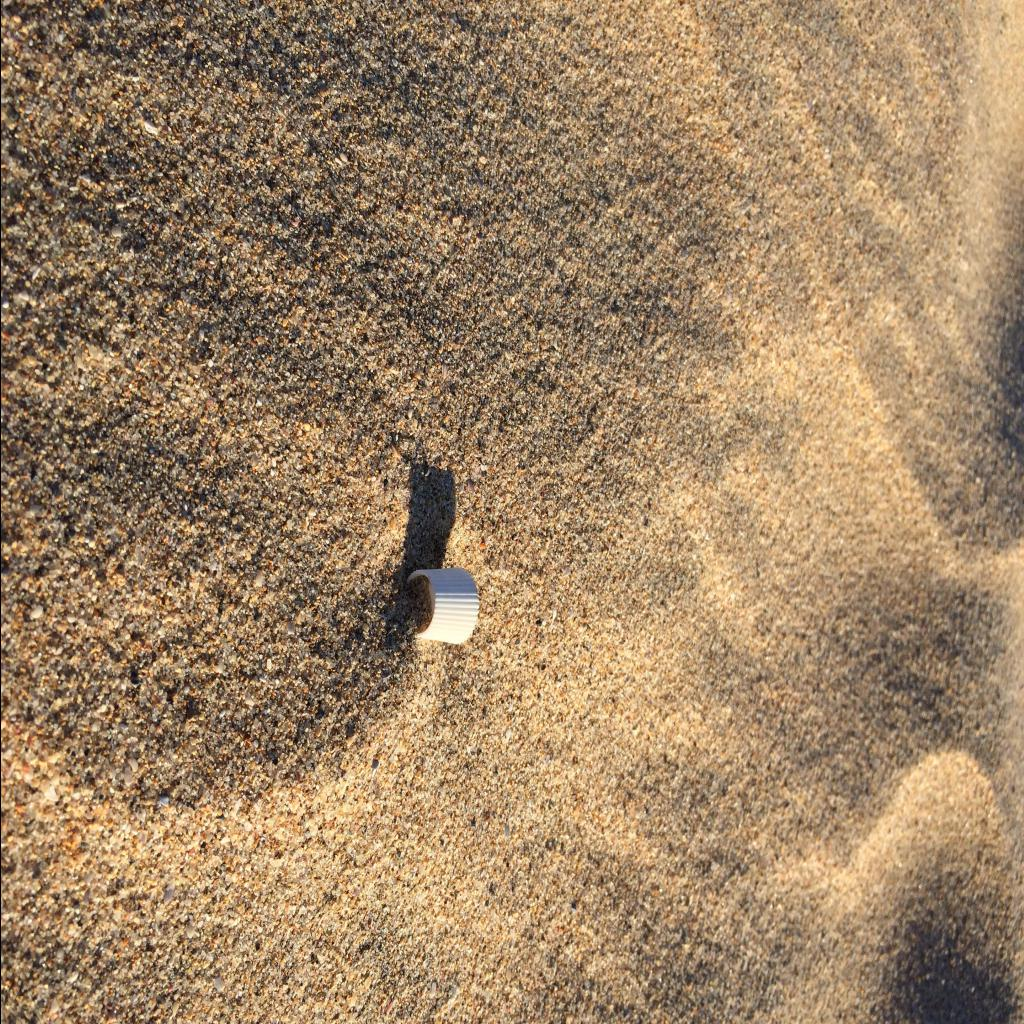Plastic bottle cap: (406, 568, 478, 644)
